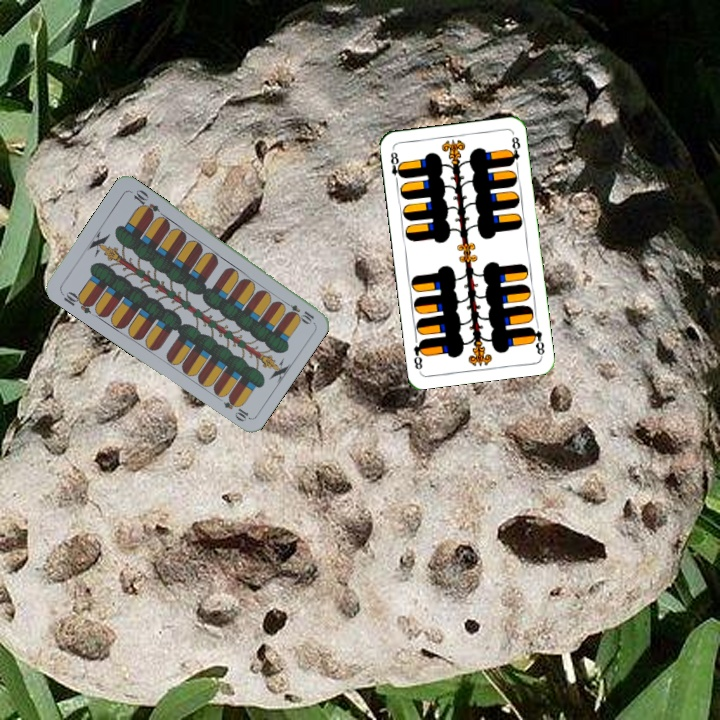E10: (57, 287, 96, 316), (279, 297, 317, 325)
E8: (386, 148, 406, 186), (526, 323, 547, 358)
